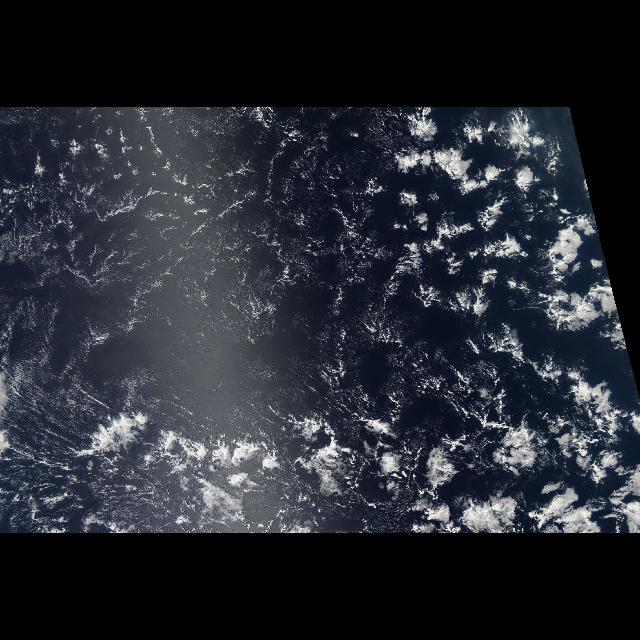Flower: (80, 112, 632, 528)
Gravel: (4, 111, 374, 382)
Sugar: (3, 213, 324, 533)
